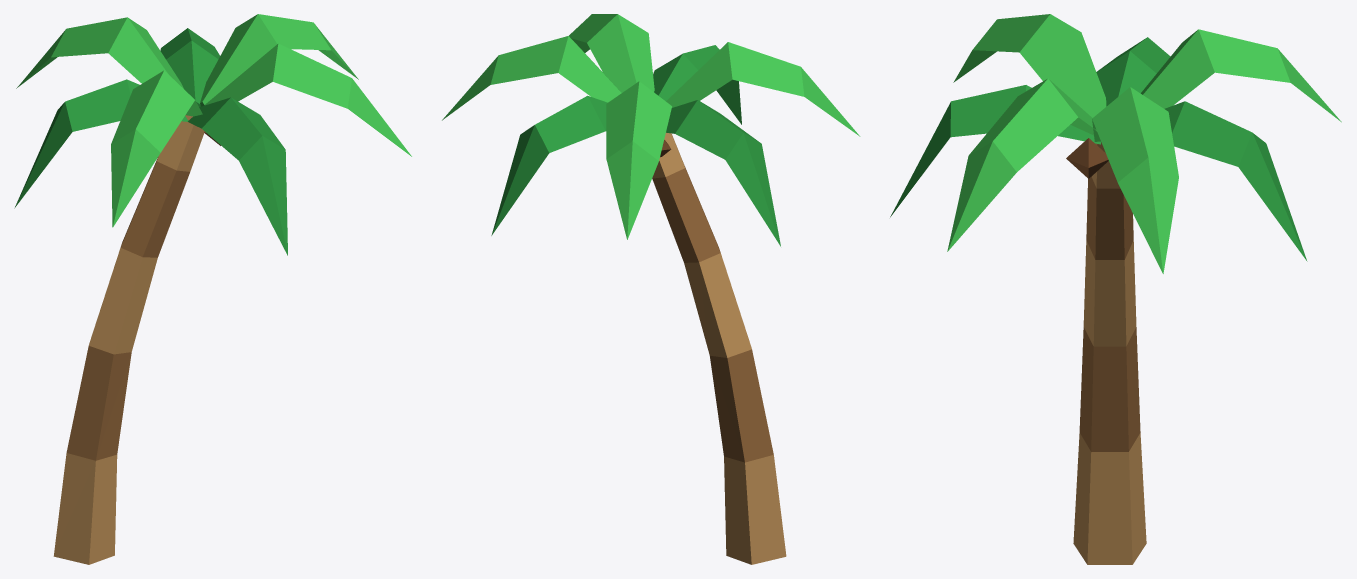
The model's file is tree_palm.glb.
3 views of the same model, side by side, from view 1: azimuth 30°, elevation 25°; view 2: azimuth 150°, elevation 25°; view 3: azimuth 270°, elevation 25° (orthographic). The views are drawn at different scales.
Visible parts, largest first — view 1: tree_palm; view 2: tree_palm; view 3: tree_palm.
Part boxes in pixels (x1,y1,x2,y2): tree_palm: (14, 14, 411, 564); tree_palm: (442, 14, 860, 564); tree_palm: (890, 14, 1341, 564).
Size of the model in its own units: 0.666 by 0.9 by 0.649.
